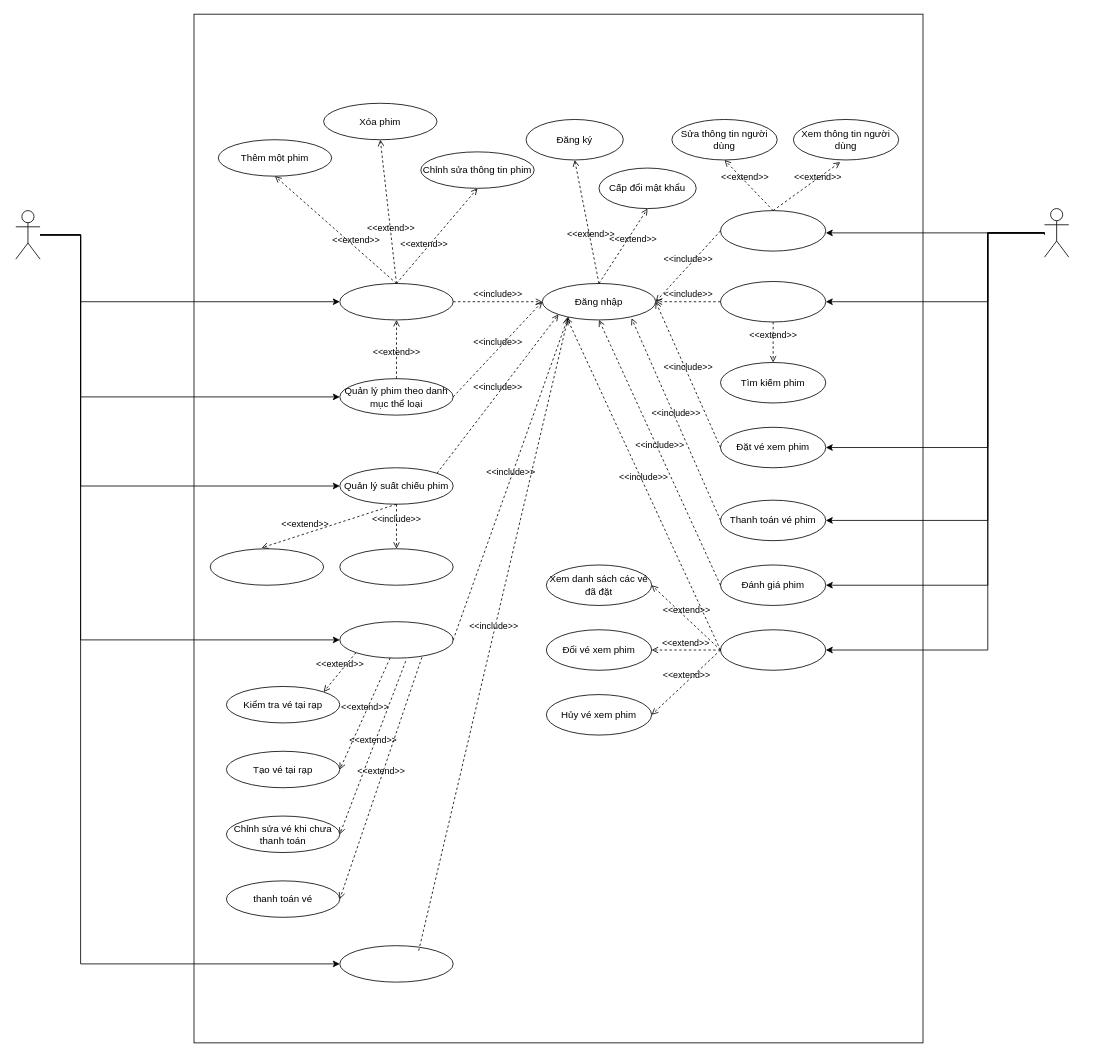
Image size: 1106x1057. Some labels were removed from this diagram. Each missing label, with the box of its shape:
Admin: (15, 210, 40, 259)
Báo cáo doanh thu: (339, 945, 453, 982)
Cập nhật lịch chiếu phim: (209, 548, 324, 585)
Cập nhật tự động số ghế trống: (339, 548, 453, 585)
Danh mục phim: (720, 281, 826, 322)
Người xem phim: (1044, 208, 1069, 257)
Quản lý hồ sơ người dùng: (720, 210, 826, 251)
Quản lý phim: (339, 283, 453, 320)
Quản lý vé: (339, 621, 453, 658)
Quản lý vé xem phim: (720, 629, 826, 670)
